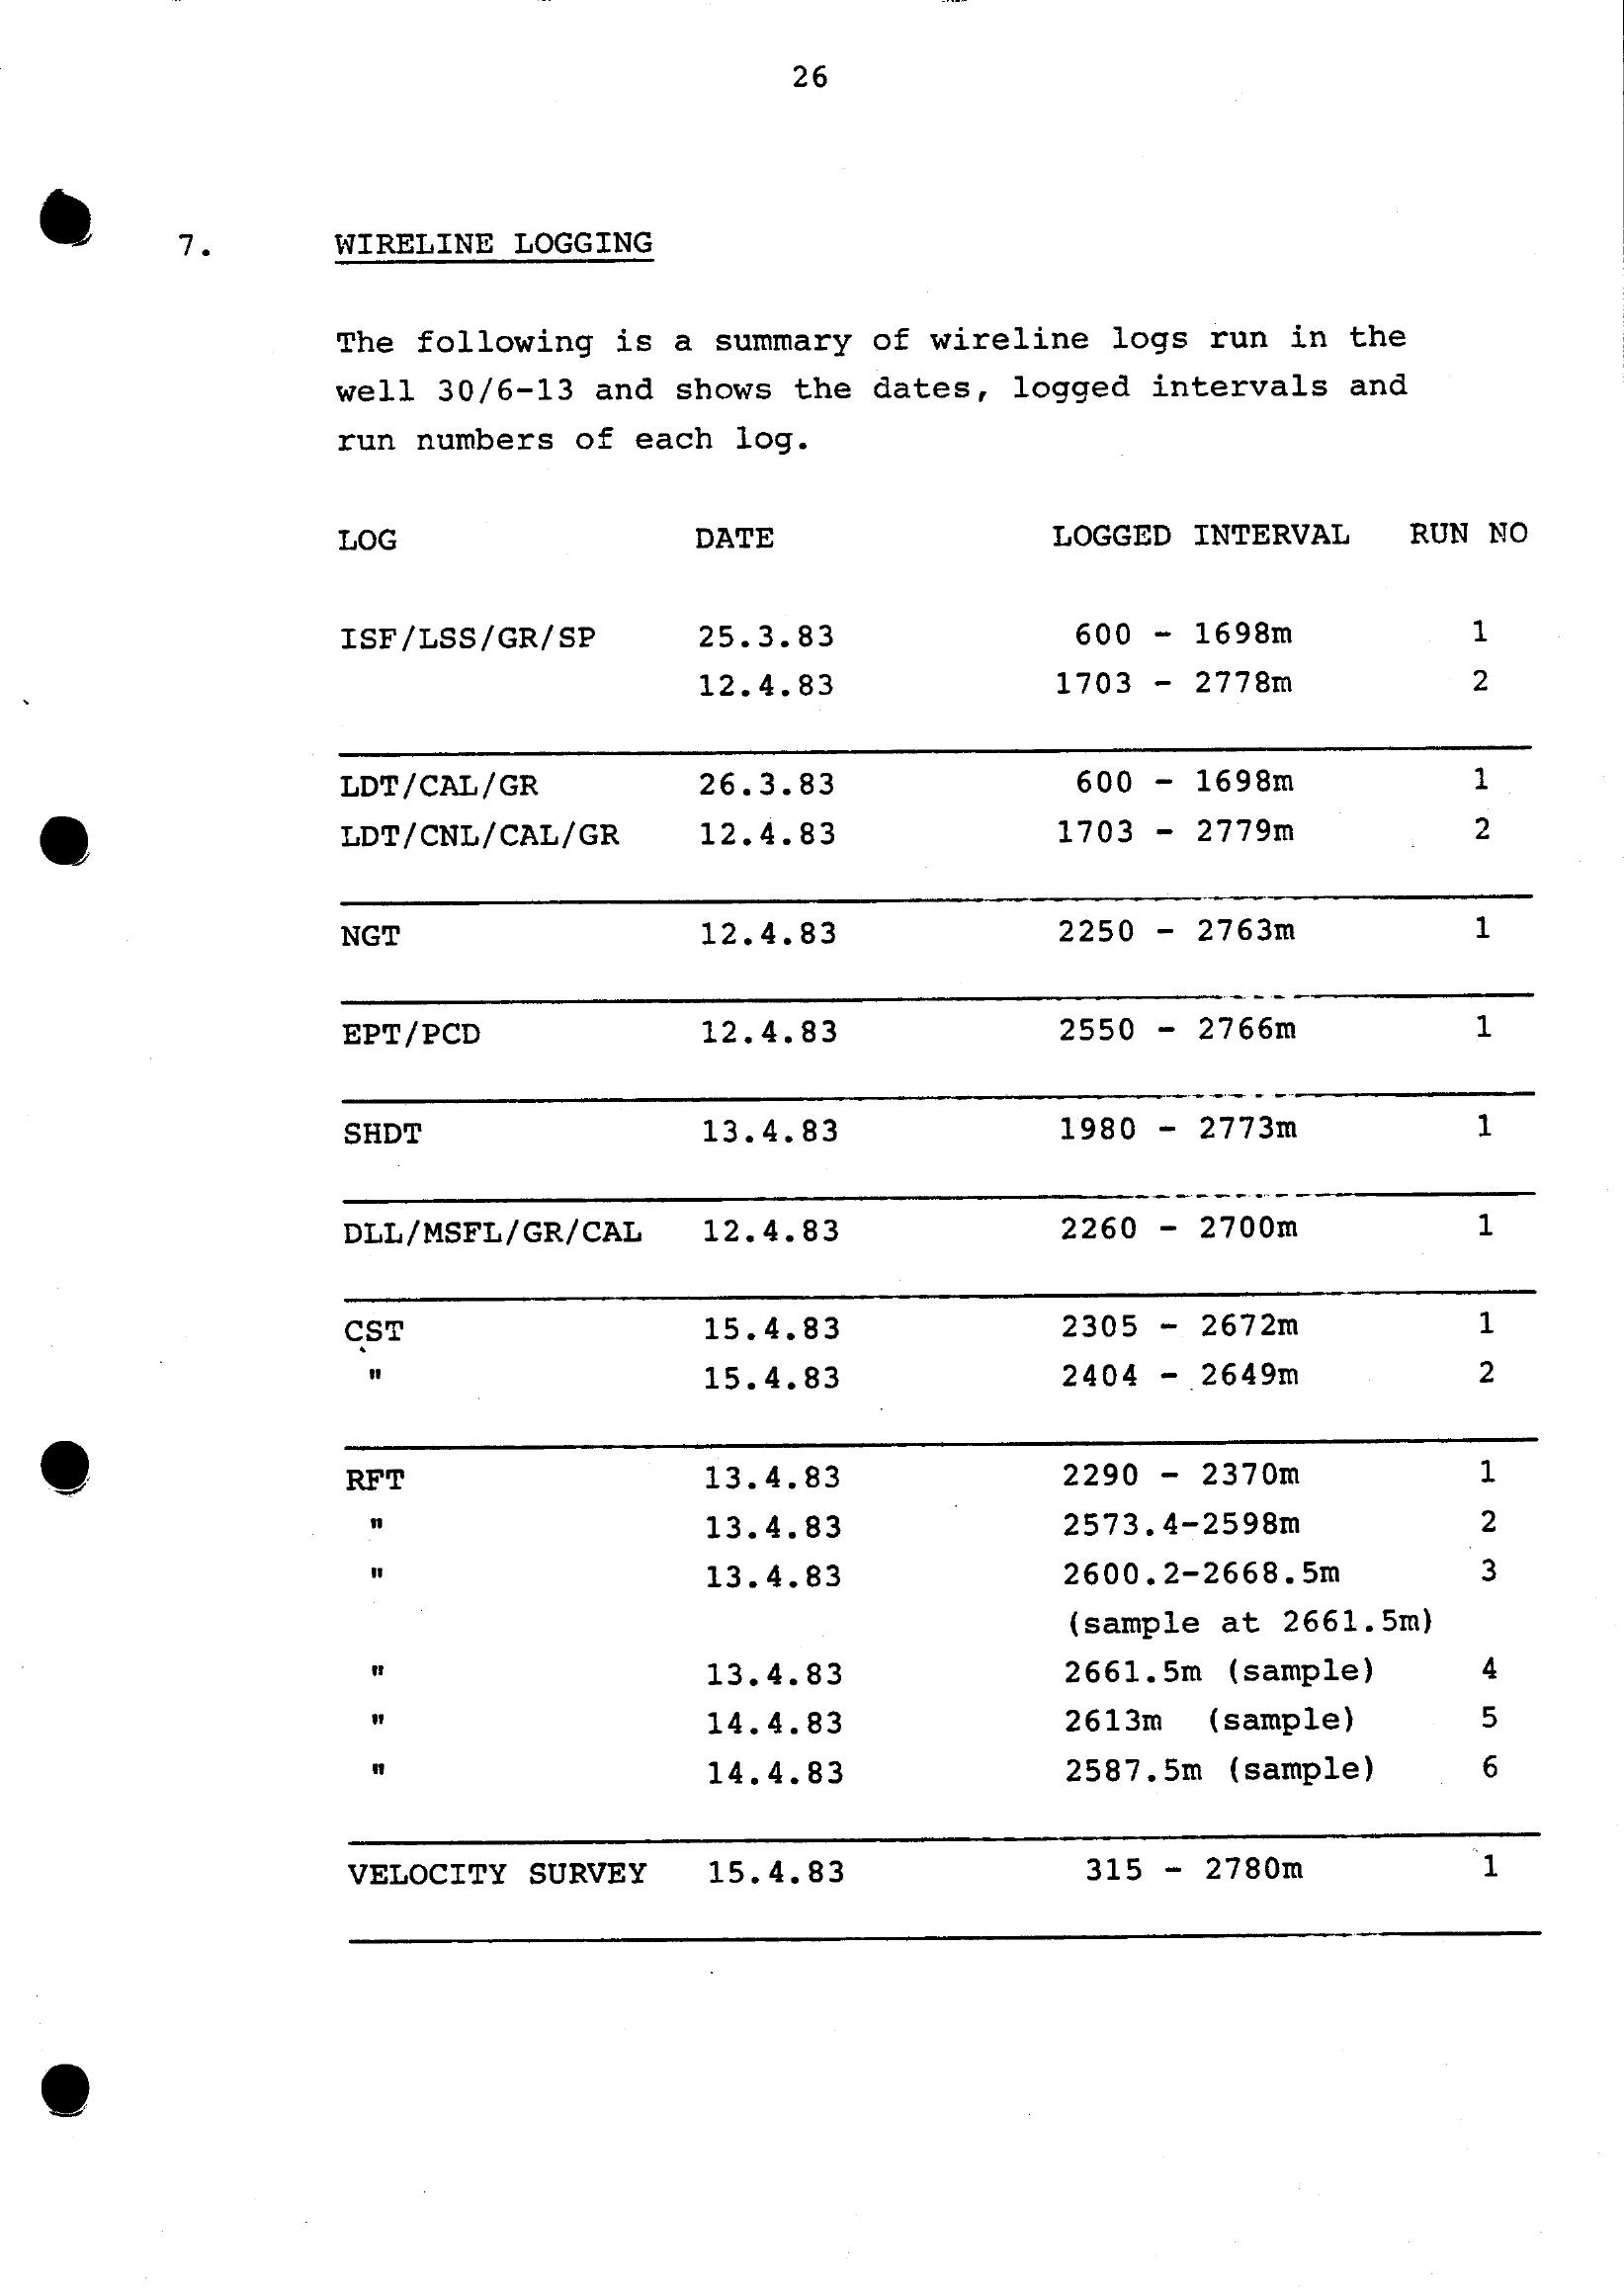table: (297, 492, 1580, 2070)
text: (295, 200, 1448, 481)
